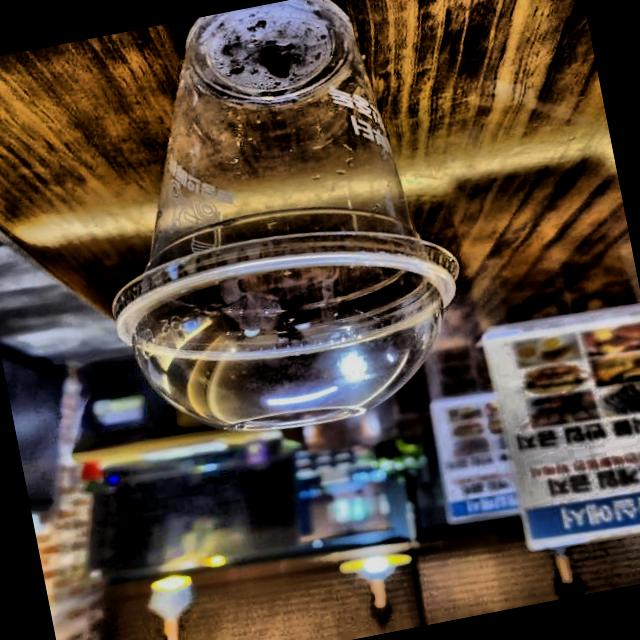plastic cup: (35, 0, 506, 491)
